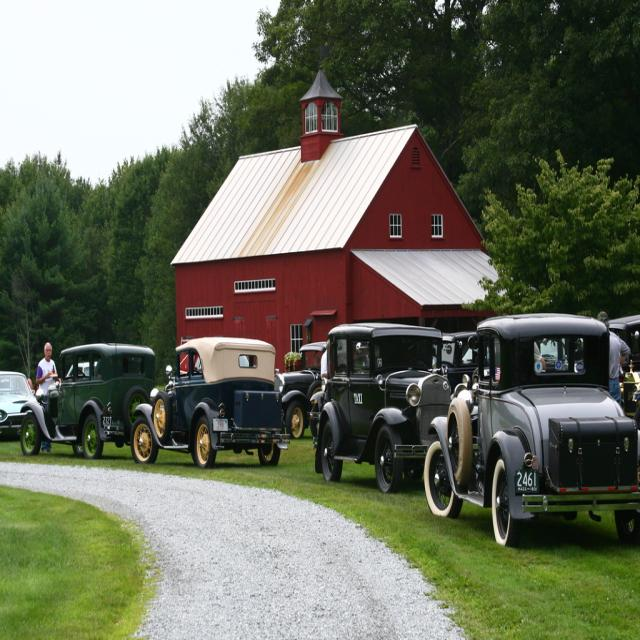car: (150, 335, 288, 467)
